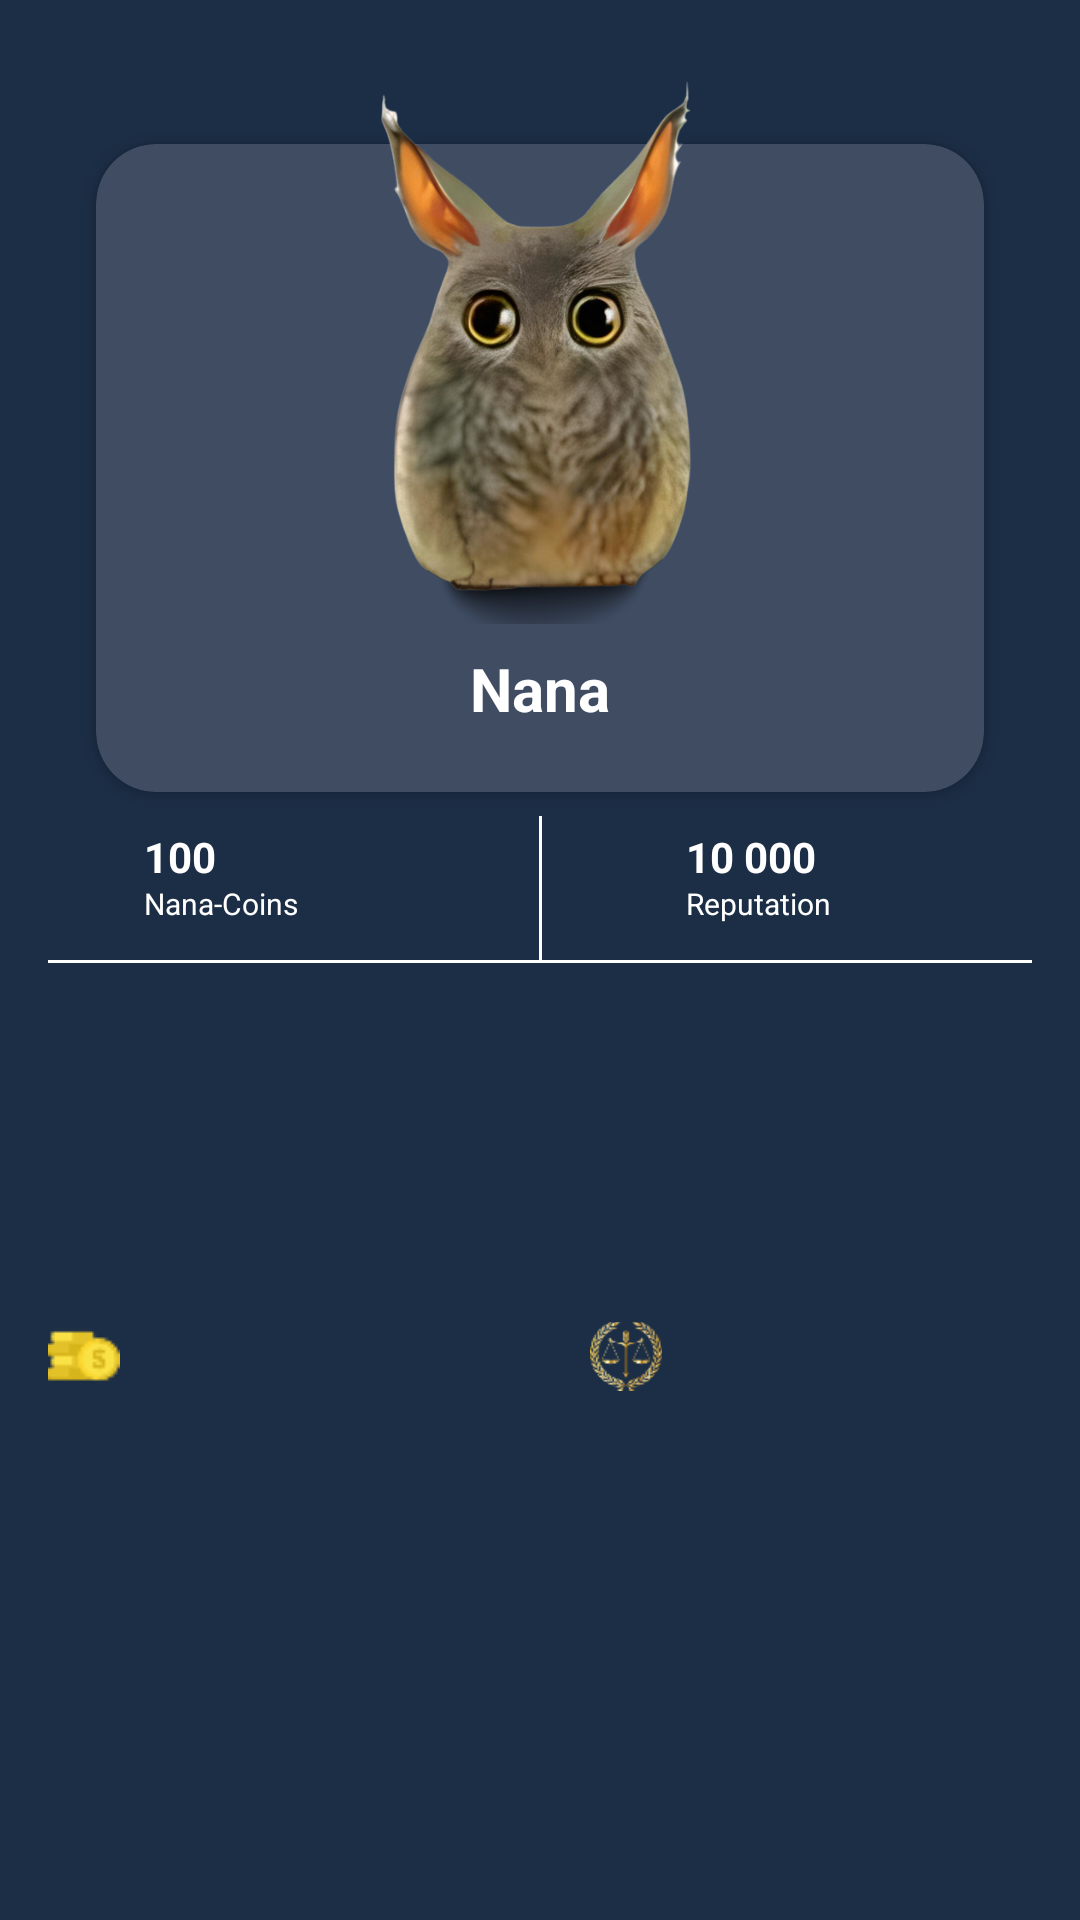

Screen size 1080*1920. Icon name, then its center in pixels as (x=x, y=y):
nana coin: (x=84, y=1356)
reputation: (x=626, y=1356)
